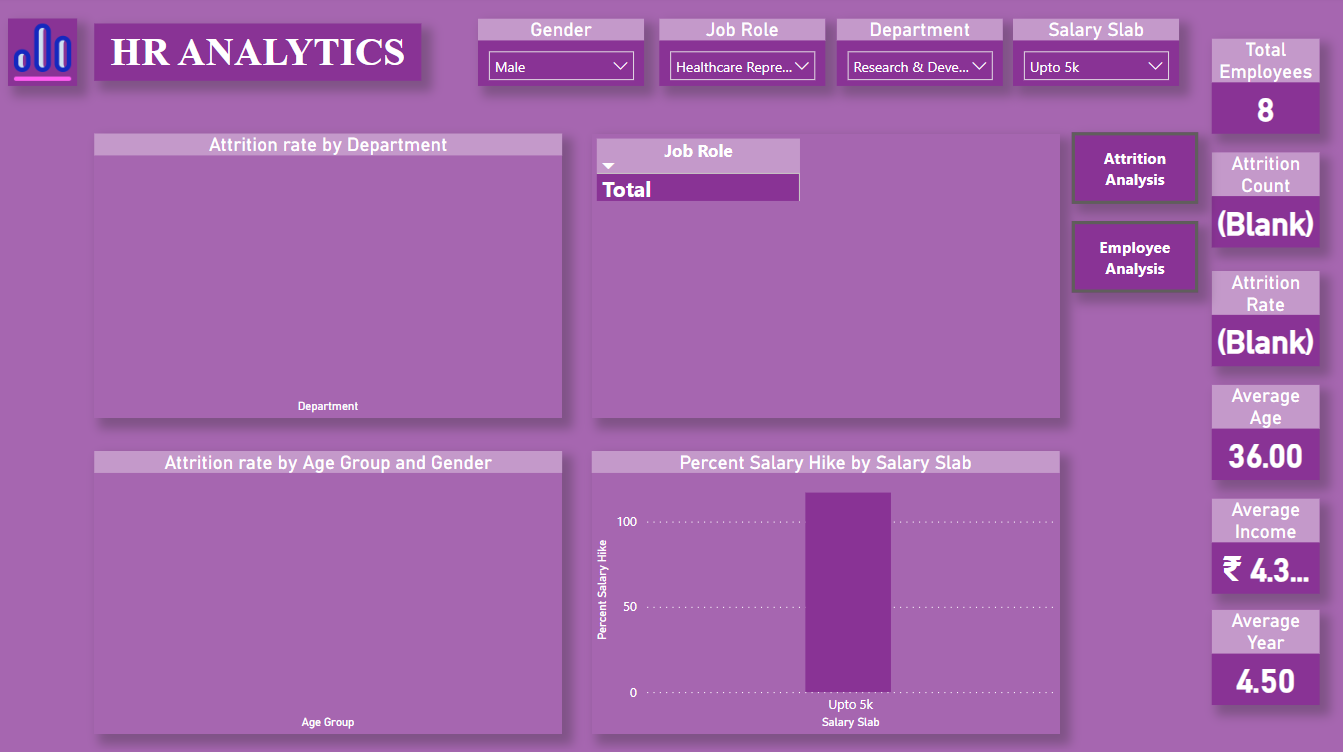

What the dashboard file says about the page in this screenshot:
{"tool":"powerbi","page":{"name":"Page 1","canvas":[1280,720],"ordinal":0},"visuals":[{"type":"card","title":"Total Employees","fields":{"Values":["HR_Analytics.Total Employees"]},"box":[1151.2,40,102.5,90],"z":0},{"type":"card","title":"Attrition Rate","fields":{"Values":["HR_Analytics.Attrition rate"]},"box":[1151.2,261.2,102.5,90],"z":1000},{"type":"card","title":"Average Age","fields":{"Values":["HR_Analytics.Average age"]},"box":[1151.2,368.8,102.5,90],"z":2000},{"type":"card","title":"Average Income","fields":{"Values":["HR_Analytics.Average monthly Income"]},"box":[1151.2,476.2,102.5,90],"z":3000},{"type":"card","title":"Average Year","fields":{"Values":["HR_Analytics.Average Year at Company"]},"box":[1151.2,582.5,102.5,90],"z":4000},{"type":"card","title":"Attrition Count","fields":{"Values":["HR_Analytics.Attrition Count"]},"box":[1151.2,148.8,102.5,90],"z":5000},{"type":"columnChart","fields":{"Y":["HR_Analytics.Attrition rate"],"Category":["HR_Analytics.Department"]},"box":[91.2,130,443.8,270],"z":6000},{"type":"pivotTable","fields":{"Rows":["HR_Analytics.Job Role"],"Columns":["HR_Analytics.Job Satisfactions"],"Values":["HR_Analytics.Attrition Count"]},"box":[563.8,130,443.8,270],"z":7000},{"type":"clusteredColumnChart","fields":{"Y":["HR_Analytics.Attrition rate"],"Category":["HR_Analytics.Age Group"],"Series":["HR_Analytics.Gender"]},"box":[91.2,431.2,443.8,268.8],"z":8000},{"type":"clusteredColumnChart","fields":{"Y":["Sum(HR_Analytics.Percent Salary Hike)"],"Category":["HR_Analytics.Salary Slab"]},"box":[563.8,431.2,443.8,268.8],"z":9000},{"type":"slicer","title":"Gender","fields":{"Values":["HR_Analytics.Gender"]},"box":[455.5,21.4,157.8,64.1],"z":10000},{"type":"slicer","title":"Job Role","fields":{"Values":["HR_Analytics.Job Role"]},"box":[627.5,21.4,157.8,64.1],"z":11000},{"type":"slicer","title":"Department","fields":{"Values":["HR_Analytics.Department"]},"box":[795.9,21.4,157.8,64.1],"z":12000},{"type":"slicer","title":"Salary Slab","fields":{"Values":["HR_Analytics.Salary Slab"]},"box":[963.2,21.4,157.8,64.1],"z":13000},{"type":"textbox","box":[91.3,26.1,310.8,54.6],"z":14000},{"type":"image","box":[9.5,21.4,65.2,64.1],"z":15000},{"type":"actionButton","box":[1019.1,214,120,68],"z":16000},{"type":"actionButton","box":[1019.1,129.9,120,68],"z":17000}]}

Visuals, with their boxes in screenshot pixels (x1, y1, x2, y2), scaled from the page's 1280x720 canvas onto the 1343x752 screenshot:
"Total Employees" card: <bbox>1208, 42, 1315, 136</bbox>
"Attrition Rate" card: <bbox>1208, 273, 1315, 367</bbox>
"Average Age" card: <bbox>1208, 385, 1315, 479</bbox>
"Average Income" card: <bbox>1208, 497, 1315, 591</bbox>
"Average Year" card: <bbox>1208, 608, 1315, 702</bbox>
"Attrition Count" card: <bbox>1208, 155, 1315, 249</bbox>
columnChart - HR_Analytics.Attrition rate x HR_Analytics.Department: <bbox>96, 136, 561, 418</bbox>
pivotTable - HR_Analytics.Job Role x HR_Analytics.Job Satisfactions: <bbox>592, 136, 1057, 418</bbox>
clusteredColumnChart - HR_Analytics.Attrition rate x HR_Analytics.Age Group: <bbox>96, 450, 561, 731</bbox>
clusteredColumnChart - Sum(HR_Analytics.Percent Salary Hike) x HR_Analytics.Salary Slab: <bbox>592, 450, 1057, 731</bbox>
"Gender" slicer: <bbox>478, 22, 643, 89</bbox>
"Job Role" slicer: <bbox>658, 22, 824, 89</bbox>
"Department" slicer: <bbox>835, 22, 1001, 89</bbox>
"Salary Slab" slicer: <bbox>1011, 22, 1176, 89</bbox>
textbox: <bbox>96, 27, 422, 84</bbox>
image: <bbox>10, 22, 78, 89</bbox>
actionButton: <bbox>1069, 224, 1195, 295</bbox>
actionButton: <bbox>1069, 136, 1195, 207</bbox>
